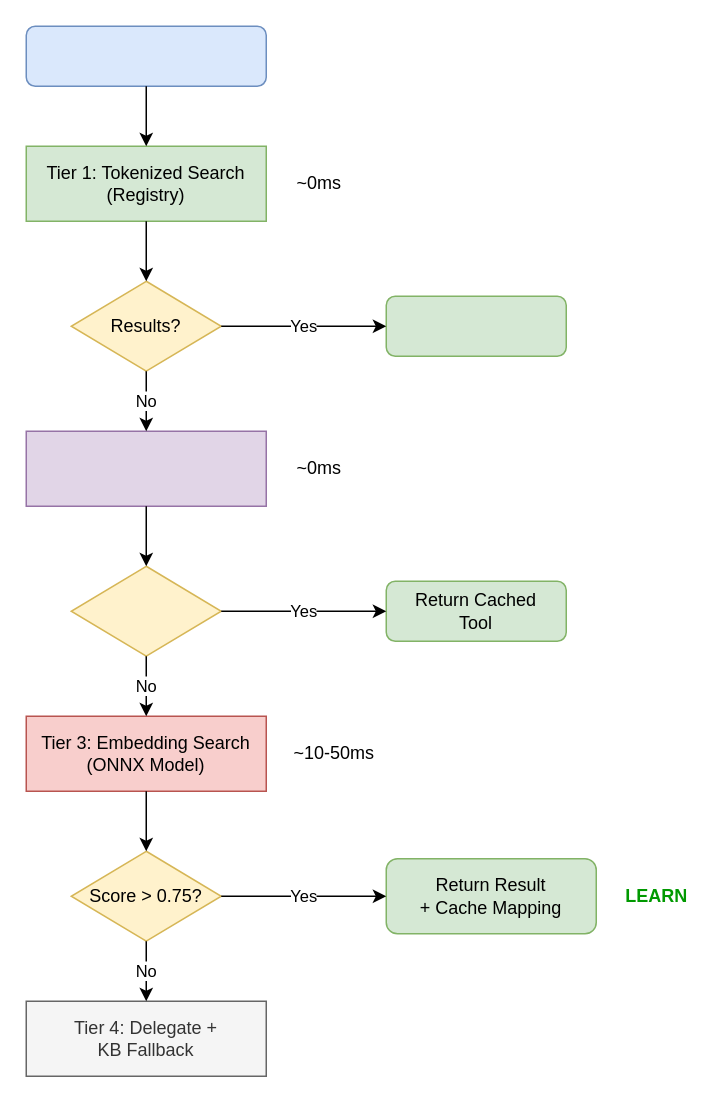
The diagram is 728 pixels wide and 1103 high, and some of its shapes have lost their labels. The shapes that lost their labels are listed below. From the top down, each one's box as (x1, y1, x2, y2) in pixels, then its label:
(25, 25, 266, 86): find_tools(query)
(385, 295, 566, 356): Return Results
(25, 430, 266, 506): Tier 2: Learned Cache Lookup
(70, 565, 221, 656): Cache Hit?
